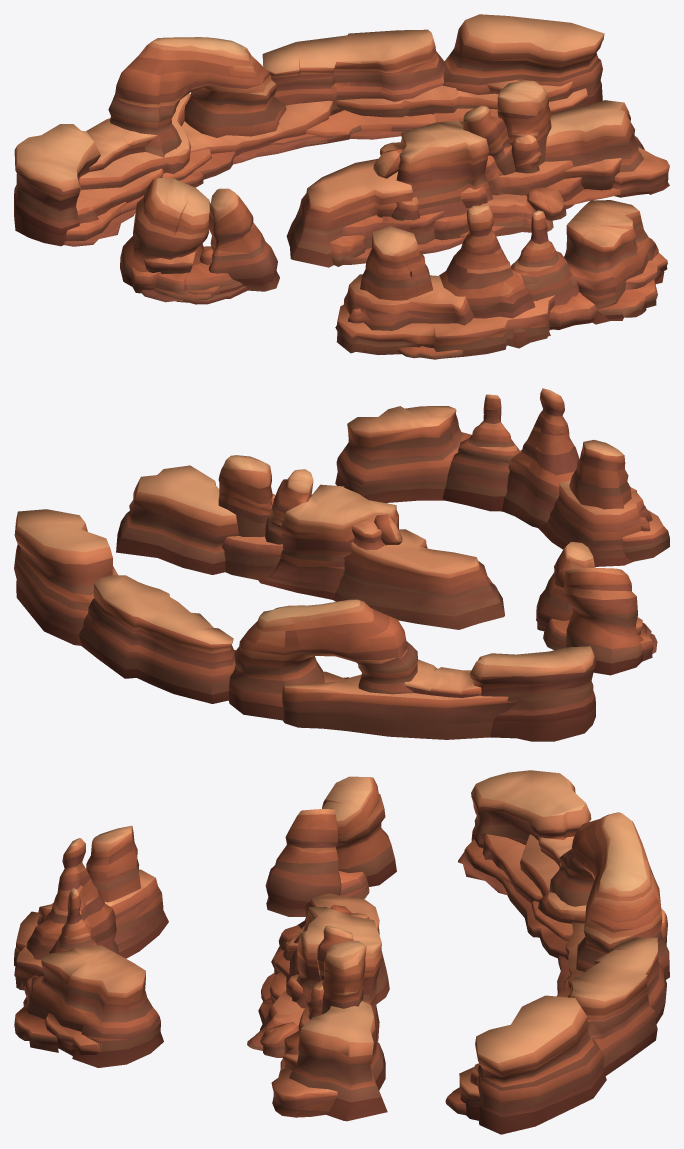
Rendered from Canyon.glb.
3 renders of one model, top to bottom at view 1: azimuth 30°, elevation 25°; view 2: azimuth 150°, elevation 25°; view 3: azimuth 270°, elevation 25°, orthographic. The views are drawn at different scales.
Visible parts, largest first — view 1: CanyonCurve_L, Canyon_M, CanyonCurve_M, Canyon_S; view 2: CanyonCurve_L, Canyon_M, CanyonCurve_M, Canyon_S; view 3: CanyonCurve_L, CanyonCurve_M, Canyon_M, Canyon_S.
Part boxes in pixels (x1,y1,x2,y2): CanyonCurve_L: [14, 14, 604, 246]; Canyon_M: [286, 80, 669, 267]; CanyonCurve_M: [335, 200, 667, 359]; Canyon_S: [120, 178, 279, 304]; CanyonCurve_L: [14, 509, 595, 741]; Canyon_M: [116, 455, 504, 629]; CanyonCurve_M: [335, 388, 669, 566]; Canyon_S: [536, 542, 657, 675]; CanyonCurve_L: [445, 770, 669, 1134]; CanyonCurve_M: [14, 825, 168, 1067]; Canyon_M: [247, 893, 389, 1121]; Canyon_S: [265, 776, 396, 916].
Size of the model in its own units: 124 by 25.44 by 117.
Materials: 1 (1 with a texture image).
